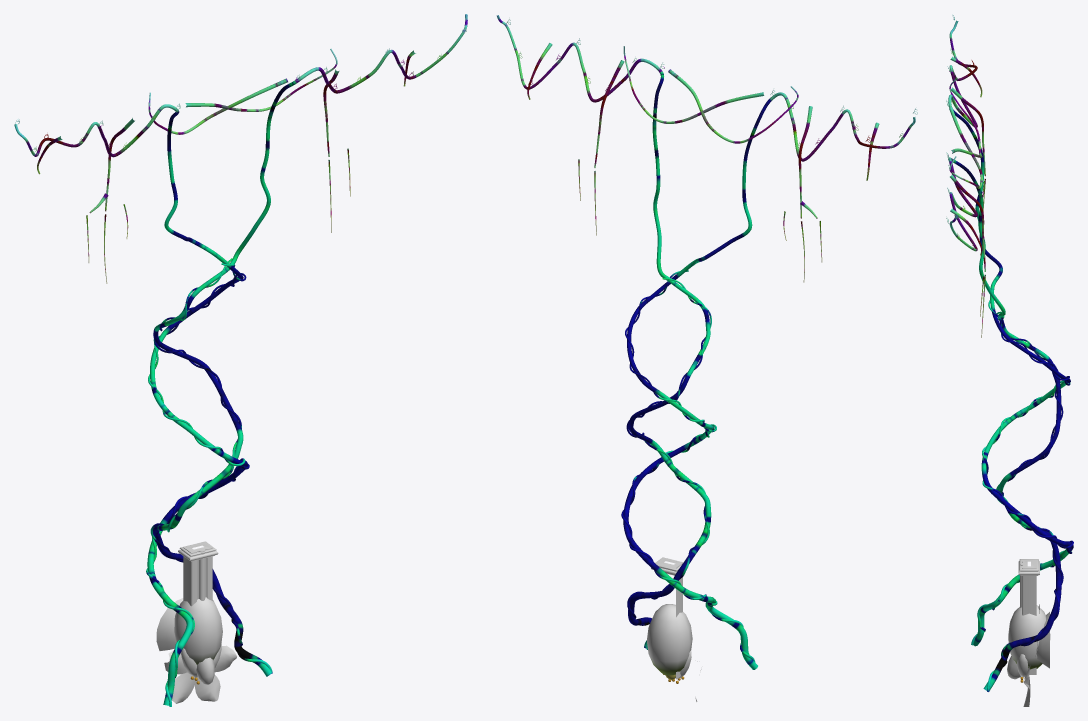
The model's file is creepers.glb.
3 renders of one model, left to right at view 1: azimuth 30°, elevation 25°; view 2: azimuth 150°, elevation 25°; view 3: azimuth 270°, elevation 25°, orthographic. The views are drawn at different scales.
Parts seen in each view (by area): view 1: Vine_Column, Vine_Pier, Proto_Bud, Rail, Proto_Blossom, Proto_Floret; view 2: Vine_Column, Vine_Pier, Proto_Bud; view 3: Vine_Column, Vine_Pier, Proto_Bud, Rail, Proto_Floret.
Part boxes in pixels (box(x1,y1,x2,y2)): Vine_Column: box(14, 48, 337, 706); Vine_Pier: box(148, 14, 467, 676); Proto_Bud: box(174, 597, 222, 664); Rail: box(178, 541, 218, 606); Proto_Blossom: box(164, 645, 236, 703); Proto_Floret: box(156, 598, 221, 684); Vine_Column: box(621, 46, 917, 669); Vine_Pier: box(496, 15, 798, 649); Proto_Bud: box(646, 604, 692, 675); Vine_Column: box(946, 14, 1073, 646); Vine_Pier: box(946, 79, 1063, 691); Proto_Bud: box(1008, 605, 1050, 669); Rail: box(1018, 559, 1039, 674); Proto_Floret: box(1007, 612, 1049, 679).
Bounding box in the file's own units: 6.29 × 8.91 × 1.75.
